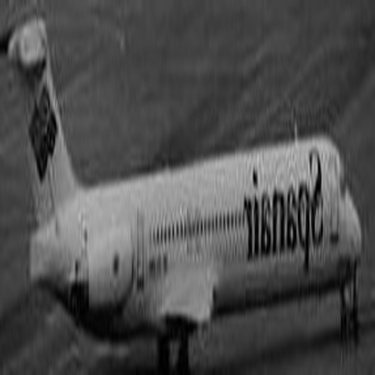airplane: (1, 1, 370, 371)
